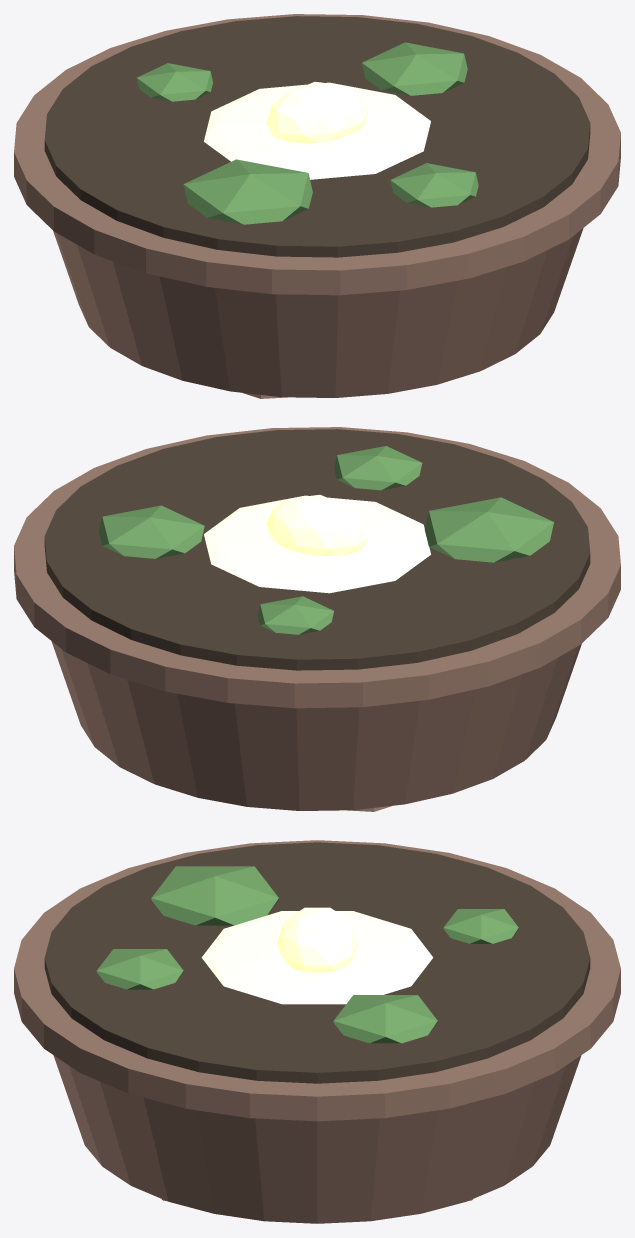
Rendered from bonsai_0_seed.glb.
3 renders of one model, top to bottom at view 1: azimuth 30°, elevation 25°; view 2: azimuth 150°, elevation 25°; view 3: azimuth 270°, elevation 25°, orthographic.
Visible parts, largest first — view 1: pot, soil, moss, glow, seed; view 2: pot, soil, moss, glow, seed; view 3: pot, soil, moss, glow, seed.
Part boxes in pixels (x1,y1,x2,y2): pot: [14, 14, 620, 398]; soil: [44, 16, 590, 257]; moss: [136, 42, 478, 224]; glow: [204, 82, 430, 179]; seed: [266, 81, 368, 142]; pot: [14, 427, 620, 811]; soil: [44, 429, 590, 670]; moss: [99, 446, 553, 634]; glow: [204, 495, 430, 593]; seed: [266, 494, 368, 555]; pot: [14, 840, 620, 1223]; soil: [44, 842, 590, 1083]; moss: [96, 866, 518, 1043]; glow: [201, 911, 433, 1004]; seed: [276, 907, 358, 972].
Bounding box in the file's own units: 0.178 × 0.072 × 0.178.
